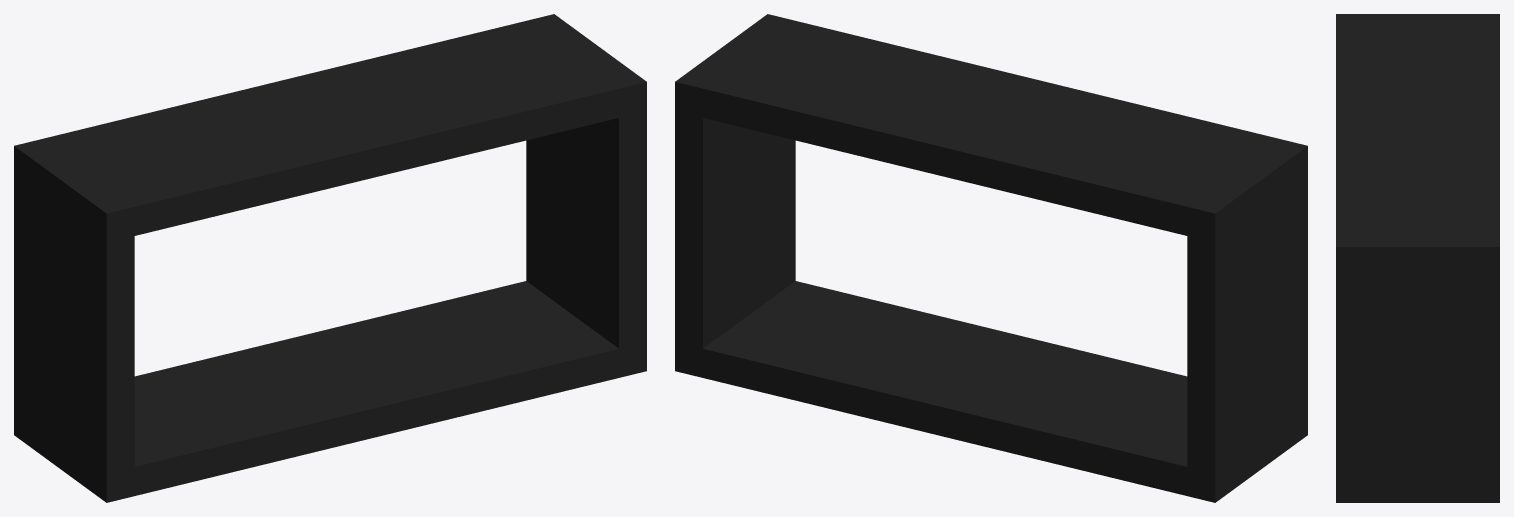
The model's file is Prop_WallShelf_08.fbx.
3 views of the same model, side by side, from view 1: azimuth 30°, elevation 25°; view 2: azimuth 150°, elevation 25°; view 3: azimuth 270°, elevation 25° (orthographic). The views are drawn at different scales.
Visible parts, largest first — view 1: Prop_WallShelf_08; view 2: Prop_WallShelf_08; view 3: Prop_WallShelf_08.
Part boxes in pixels (x1,y1,x2,y2): Prop_WallShelf_08: [14, 14, 646, 502]; Prop_WallShelf_08: [675, 14, 1307, 502]; Prop_WallShelf_08: [1336, 14, 1499, 502].
Bounding box in the file's own units: 36.57 × 18.72 × 10.87.
Materials: 1 (1 with a texture image).
